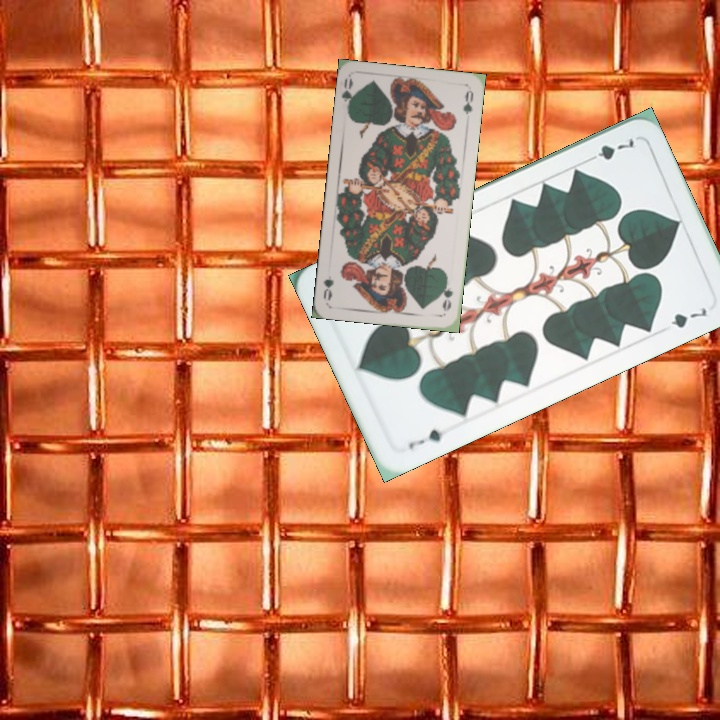G7: (582, 134, 639, 165), (404, 425, 446, 452)
GO: (338, 75, 358, 115), (438, 274, 455, 314)
